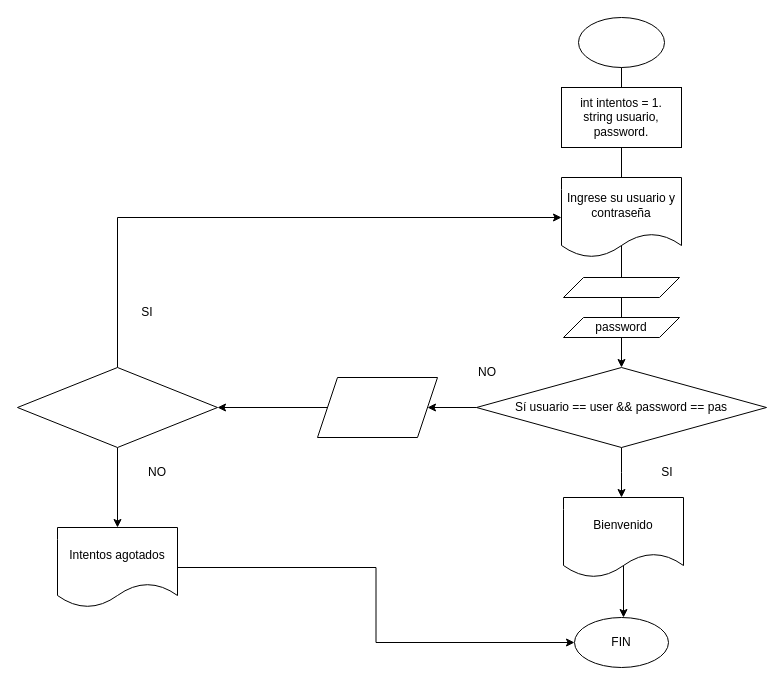
The diagram is 784 pixels wide and 685 high, and some of its shapes have lost their labels. Here are the shapes that lost their labels. From the top down, the box of each, then its label:
(578, 16, 664, 68): INICIO
(562, 276, 680, 298): usuario
(16, 366, 218, 448): Sí intentos < 3
(316, 376, 438, 438): intentos++
